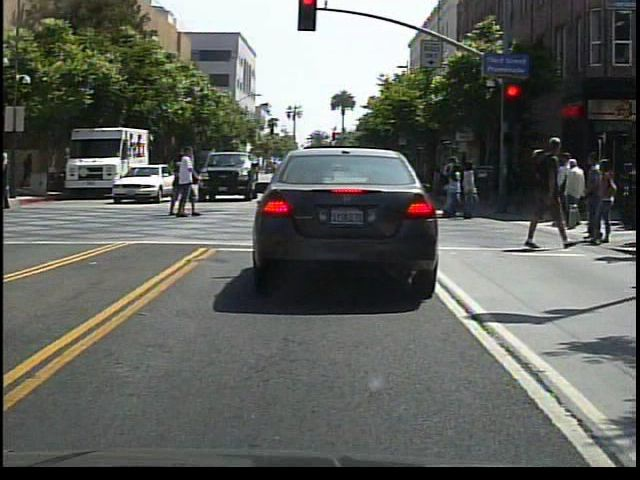person: (514, 130, 577, 264), (554, 155, 589, 234), (166, 150, 202, 226), (282, 154, 315, 215)
